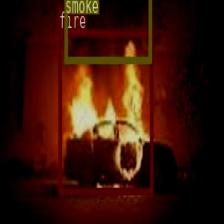fire: (58, 28, 153, 194)
smoke: (64, 0, 151, 63)
